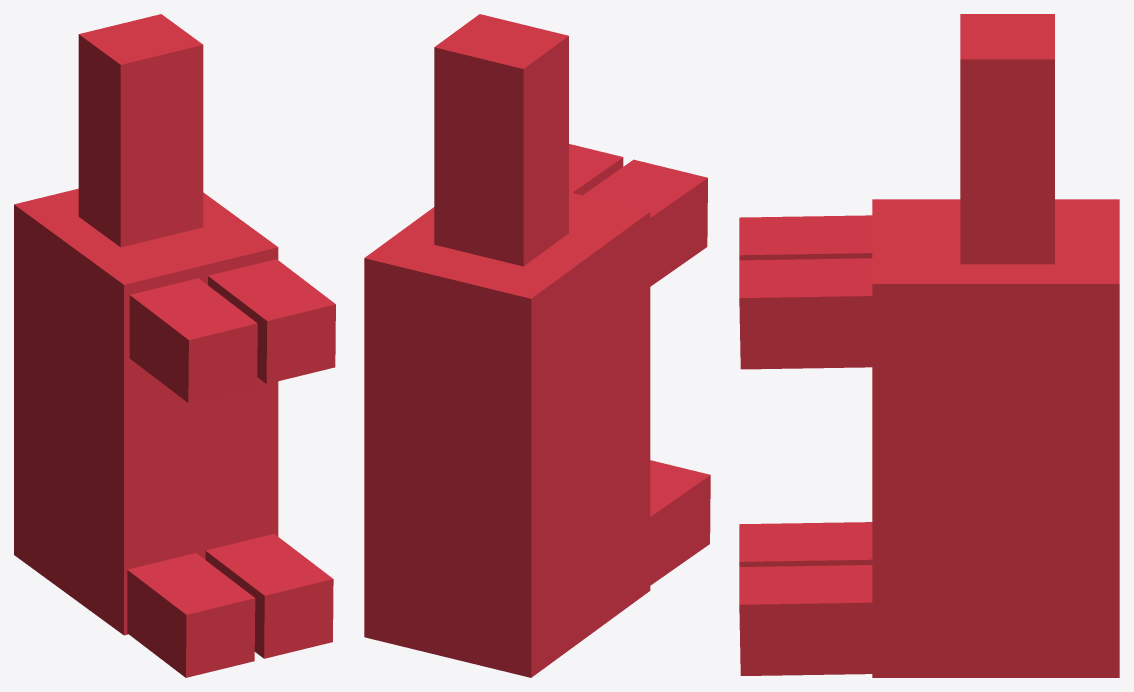
Rendered from BearMesh.fbx.
3 views of the same model, side by side, from view 1: azimuth 30°, elevation 25°; view 2: azimuth 150°, elevation 25°; view 3: azimuth 270°, elevation 25° (orthographic). The views are drawn at different scales.
Parts seen in each view (by area): view 1: Cube.001; view 2: Cube.001; view 3: Cube.001.
Part boxes in pixels (x1,y1,x2,y2): Cube.001: (14,14,335,677); Cube.001: (364,14,710,677); Cube.001: (739,14,1119,677).
Bounding box in the file's own units: 4.12 × 13.62 × 7.83.
